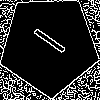I: (24, 20, 68, 57)
